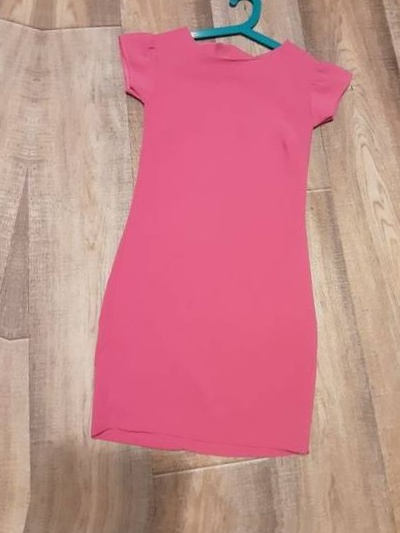Dress: (59, 0, 396, 488)
